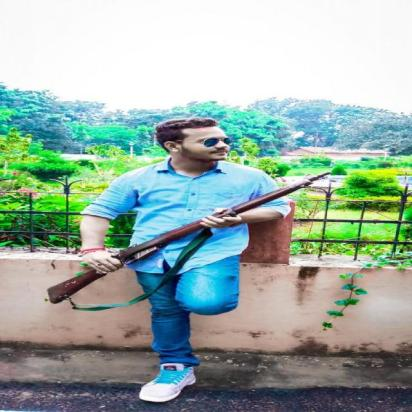Gun: (44, 170, 335, 304)
